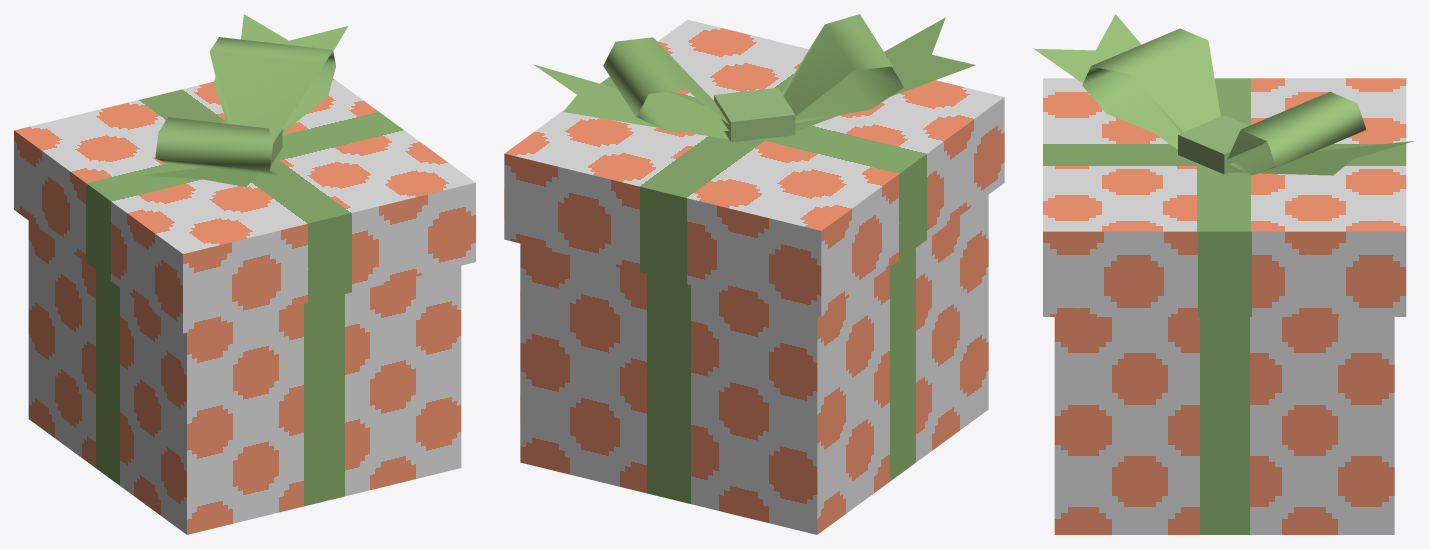
The model's file is 05be_Royal_Present.glb.
The picture shows the model from 3 angles, left to right: view 1: azimuth 30°, elevation 25°; view 2: azimuth 150°, elevation 25°; view 3: azimuth 270°, elevation 25°; orthographic projection. The views are drawn at different scales.
Parts seen in each view (by area): view 1: part_0; view 2: part_0; view 3: part_0.
Part boxes in pixels (x1,y1,x2,y2): part_0: [14, 14, 475, 534]; part_0: [504, 14, 1004, 534]; part_0: [1033, 14, 1413, 534].
Size of the model in its own units: 0.2248 by 0.2457 by 0.2248.
1 material, 1 textured.
